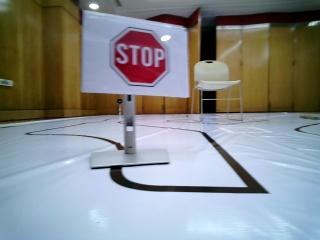stop: (92, 26, 181, 91)
